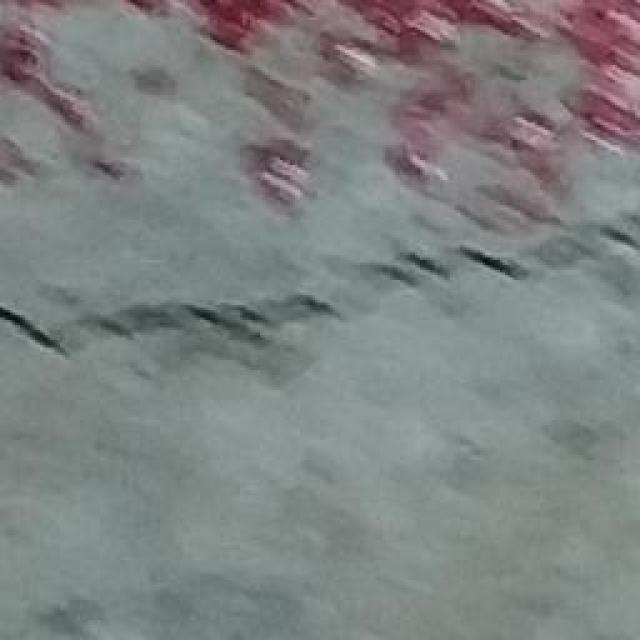Transverse: (0, 207, 640, 373)
